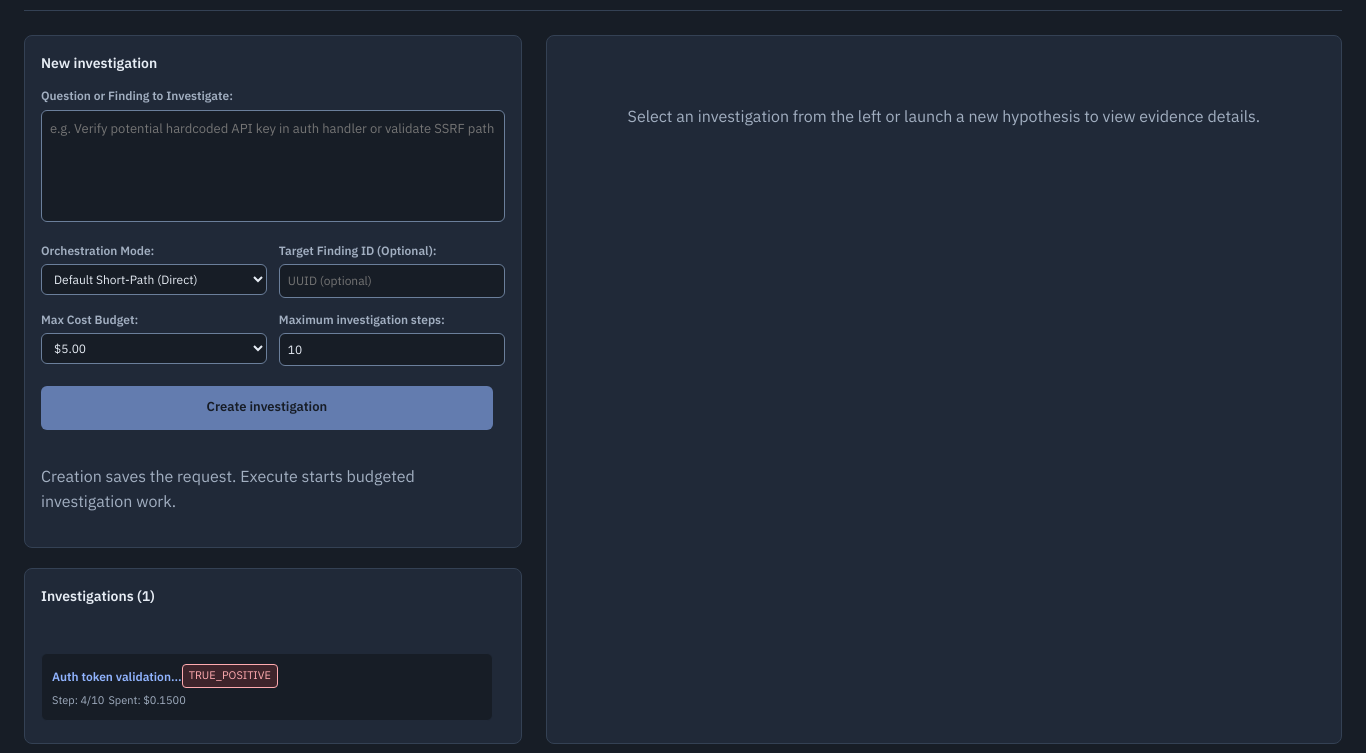
it: InvestigationsWorkbench › renders coverage notes and citations when present in report
(page scrolled)
Select the completed investigation
Click the text "Auth token validation..." at (117, 676), box 52,667 -> 182,686
(page scrolled)
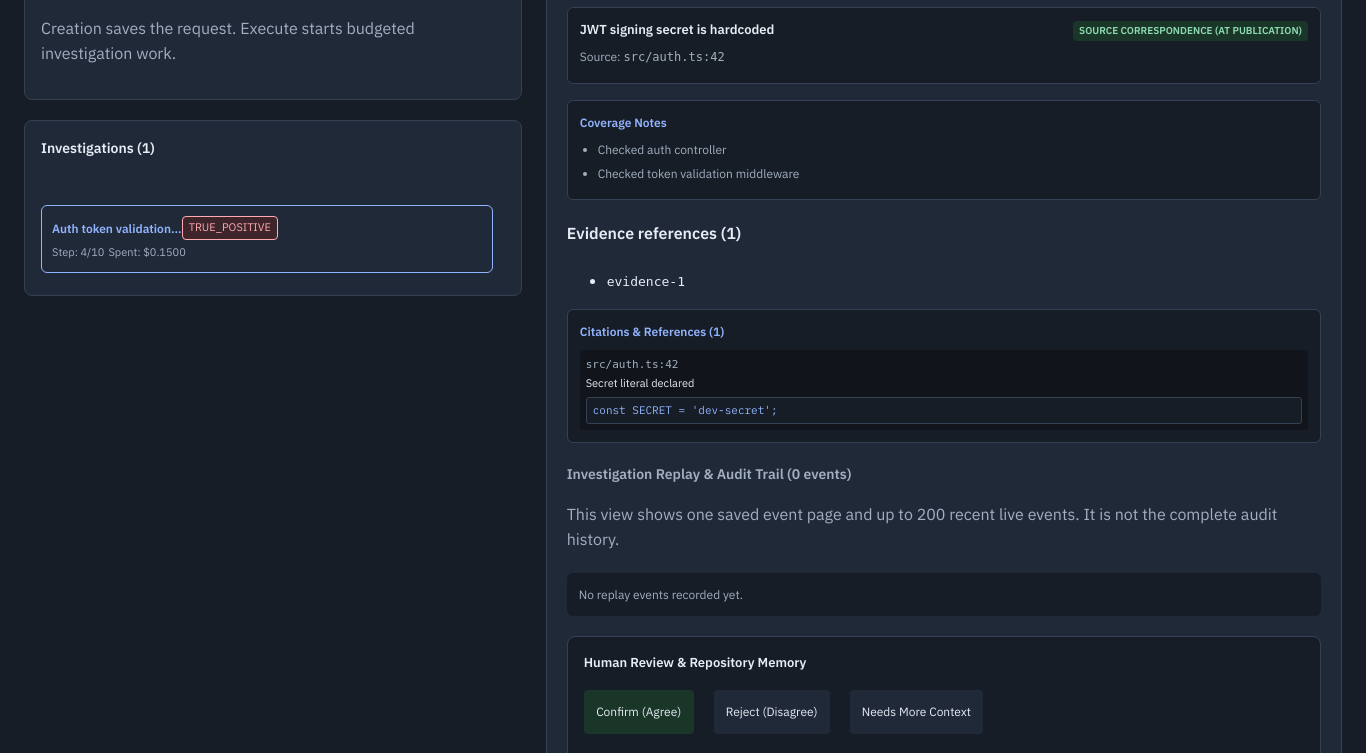
Now the text "JWT signing secret is hardcoded" is shown, box 580,20 -> 774,41
Now the text "SOURCE CORRESPONDENCE (AT PUBLICATION)" is shown, box 1073,21 -> 1308,41
Now the list item "Checked auth controller" is shown, box 598,142 -> 726,157
